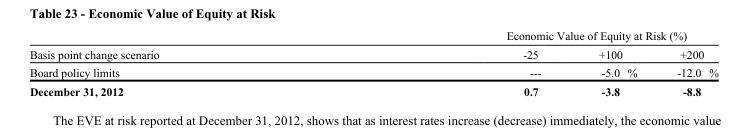table: (28, 29, 717, 97)
table column: (28, 29, 332, 97), (332, 29, 569, 97), (569, 29, 656, 97), (656, 29, 717, 97)
table column header: (28, 29, 717, 63)
table row: (28, 45, 717, 63), (28, 63, 717, 81), (28, 29, 717, 45), (28, 81, 717, 97)
table spanning cell: (28, 29, 332, 63), (332, 29, 717, 45)
